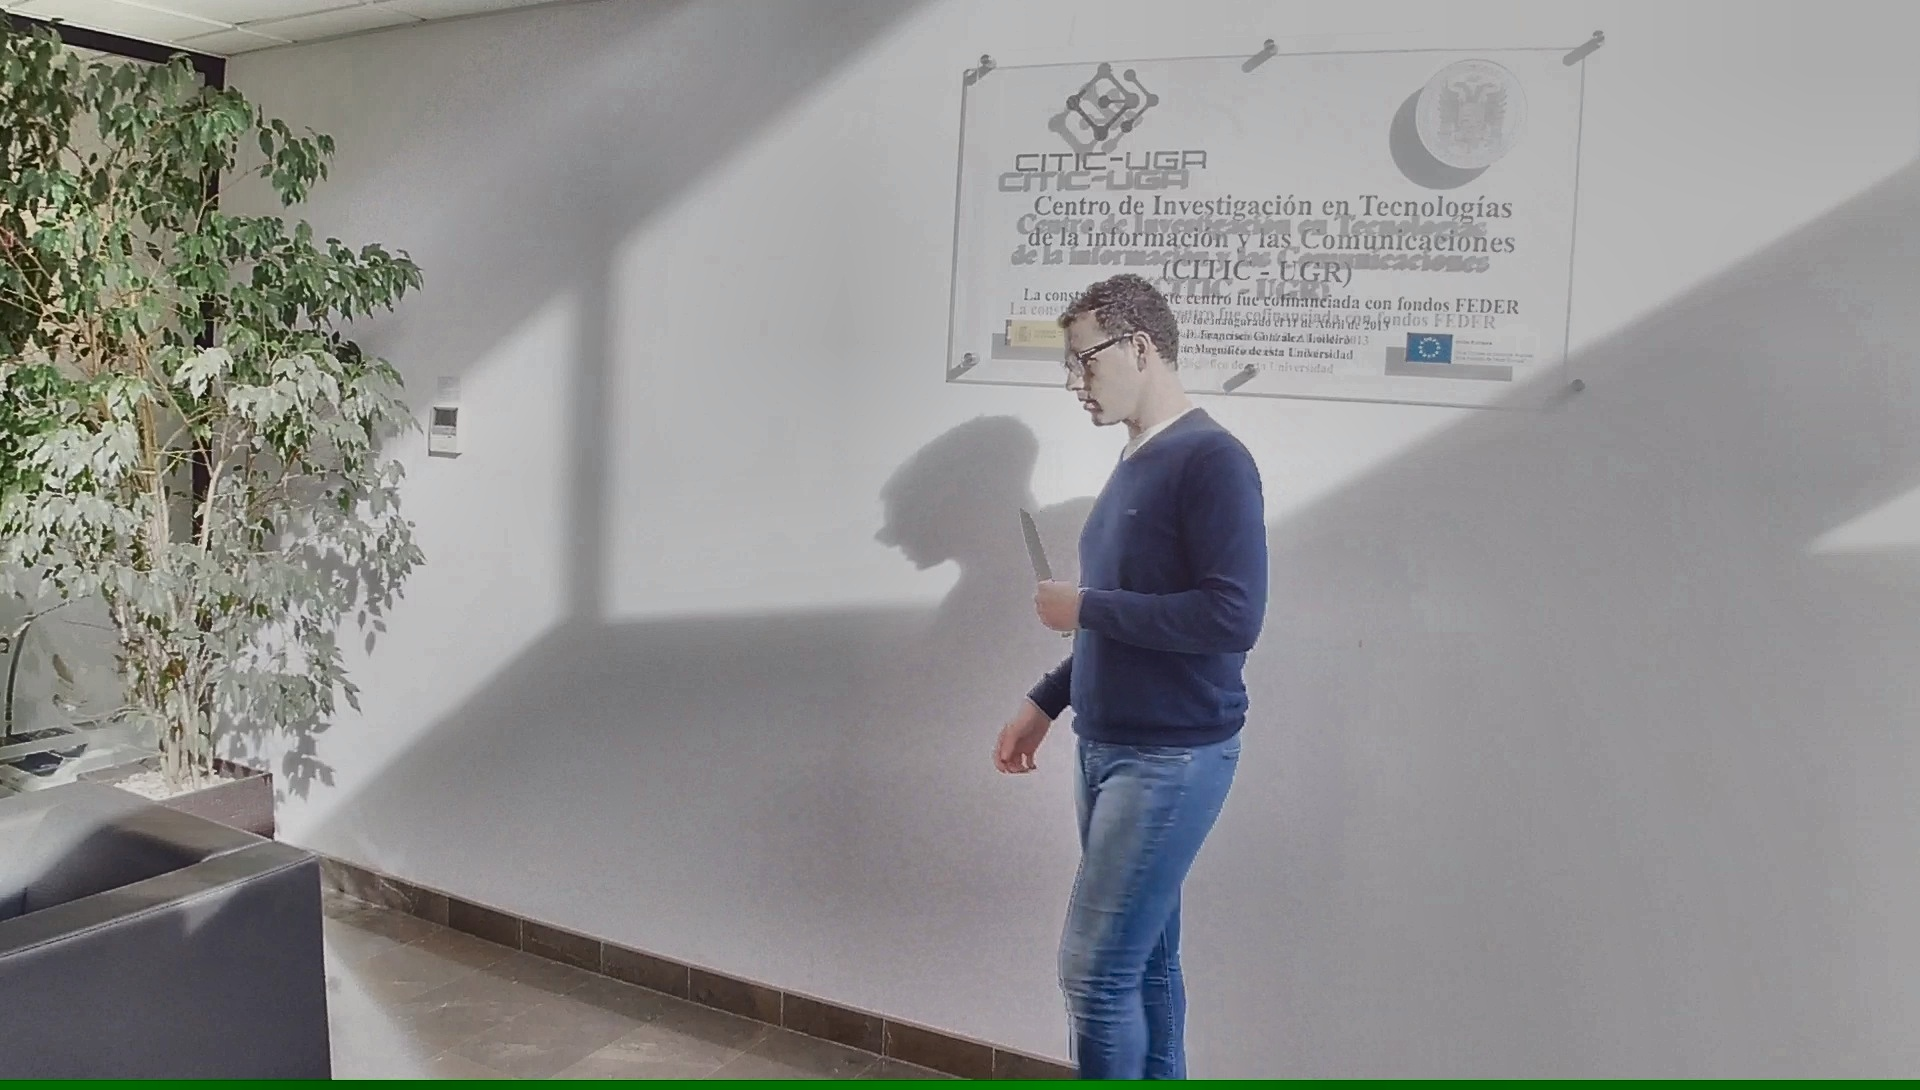knife: (1005, 494, 1077, 641)
